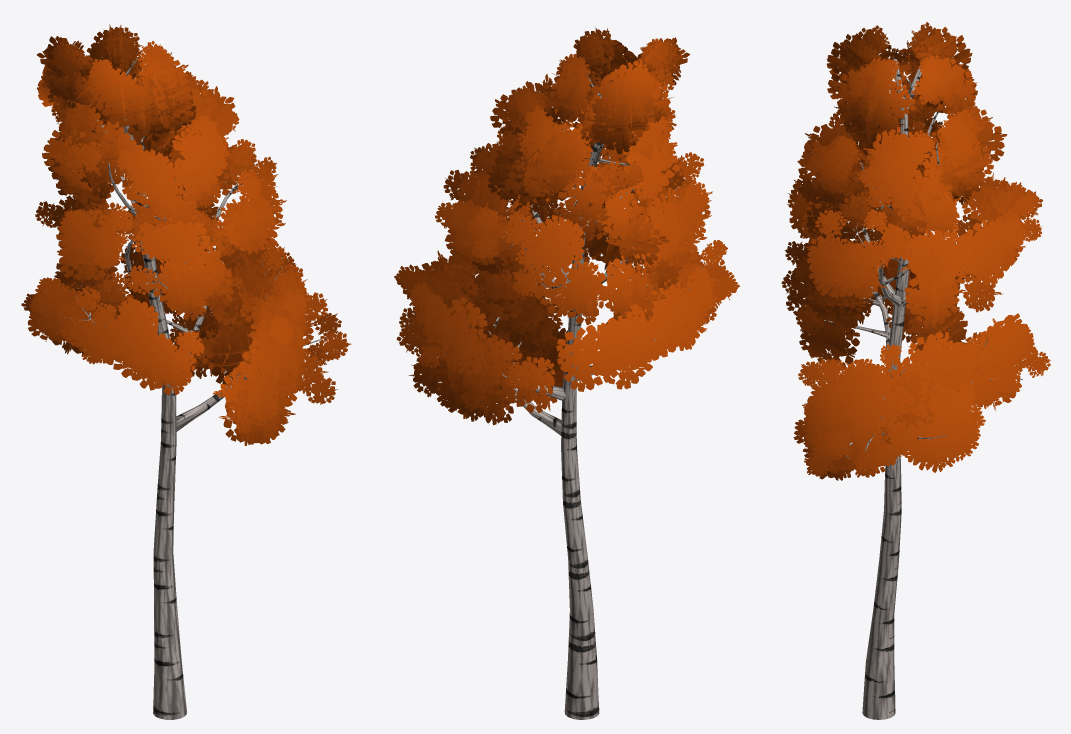
File: nature_birch_2.glb
3 renders of one model, left to right at view 1: azimuth 30°, elevation 25°; view 2: azimuth 150°, elevation 25°; view 3: azimuth 270°, elevation 25°, orthographic. The views are drawn at different scales.
Parts seen in each view (by area): view 1: nature_birch_2; view 2: nature_birch_2; view 3: nature_birch_2.
Part boxes in pixels (x1=…): nature_birch_2: x1=21, y1=24, x2=351, y2=719; nature_birch_2: x1=394, y1=27, x2=739, y2=719; nature_birch_2: x1=781, y1=22, x2=1050, y2=719.
Bounding box in the file's own units: 666 × 1353 × 525.
Materials: 2 (2 with a texture image).
